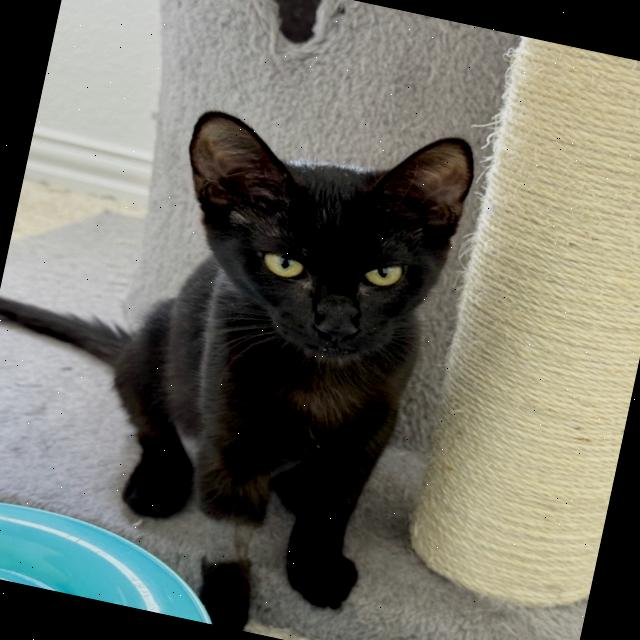bombay_cat: (136, 76, 506, 411)
